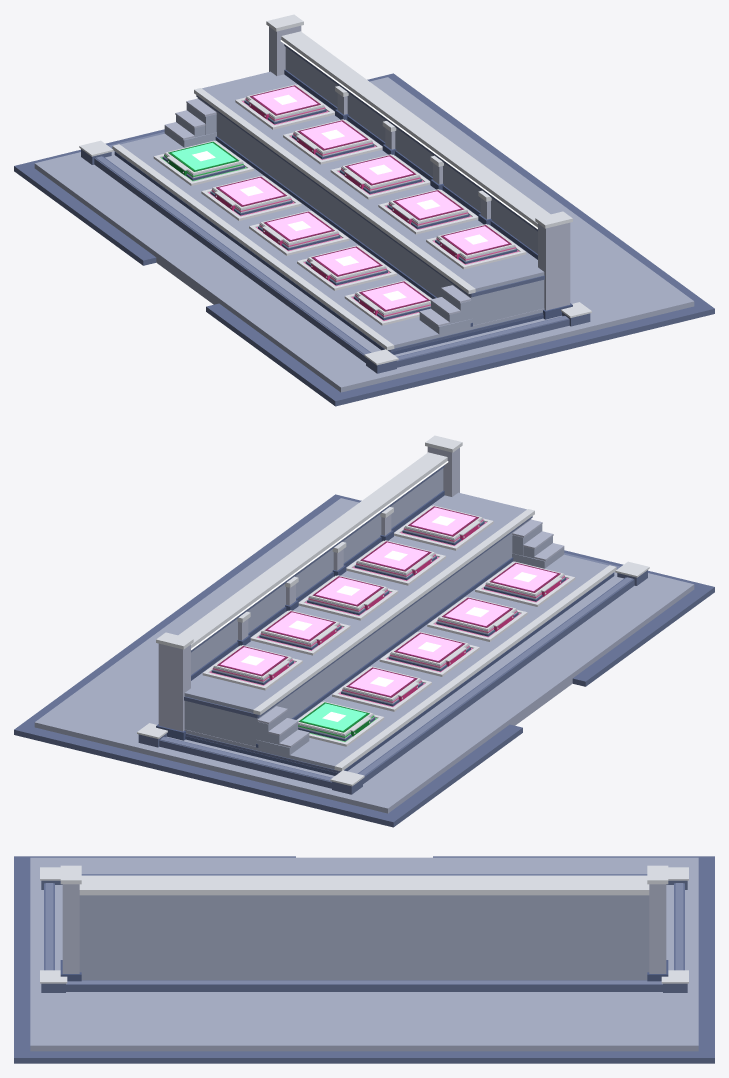
The model's file is GunStand_2Tiers.glb.
The picture shows the model from 3 angles, top to bottom: view 1: azimuth 30°, elevation 25°; view 2: azimuth 150°, elevation 25°; view 3: azimuth 270°, elevation 25°; orthographic projection. The views are drawn at different scales.
Visible parts, largest first — view 1: PlazaDeck_05, ArmoryTier_207, ArmoryTierTop_206, ArmoryTierTop_215, BackCoping_185, ArmoryBack_188, PlazaKerb_03, ArmoryApron_233, TierCoping_212, TierCoping_203, ApronKerb_232, PlazaKerb_02 (+23 smaller); view 2: PlazaDeck_05, ArmoryTier_207, ArmoryTierTop_206, ArmoryTierTop_215, BackCoping_185, ArmoryBack_188, PlazaKerb_04, ArmoryApron_233, TierCoping_212, TierCoping_203, ApronKerb_232, PlazaKerb_02 (+23 smaller); view 3: PlazaDeck_05, ArmoryBack_188, BackCoping_185, PlazaKerb_02, ApronKerb_230, PlazaKerb_03, PlazaKerb_04, ApronKerbTop_229, TierCoping_212, CornerPost_169, CornerPost_172, ArmoryApron_233 (+13 smaller).
Boxes of the visible parts, x1,y1,x2,y2 form: PlazaDeck_05: (34,77,694,392); ArmoryTier_207: (197,98,544,325); ArmoryTierTop_206: (202,71,544,289); ArmoryTierTop_215: (120,133,544,346); BackCoping_185: (281,31,550,227); ArmoryBack_188: (285,47,537,253); PlazaKerb_03: (341,303,714,402); ArmoryApron_233: (105,151,562,356); TierCoping_212: (112,144,394,350); TierCoping_203: (194,88,475,294); ApronKerb_232: (94,156,371,362); PlazaKerb_02: (393,79,706,306); PlazaDeck_05: (34,498,694,813); ArmoryTier_207: (184,519,531,746); ArmoryTierTop_206: (184,492,526,710); ArmoryTierTop_215: (184,554,608,767); BackCoping_185: (178,452,447,648); ArmoryBack_188: (191,468,443,674); PlazaKerb_04: (14,724,387,823); ArmoryApron_233: (166,572,623,777); TierCoping_212: (334,565,616,771); TierCoping_203: (253,509,534,715); ApronKerb_232: (357,577,634,783); PlazaKerb_02: (22,500,335,727); PlazaDeck_05: (30,857,698,1051); ArmoryBack_188: (79,895,649,980); BackCoping_185: (79,879,649,895); PlazaKerb_02: (30,1051,698,1063); ApronKerb_230: (66,980,662,991); PlazaKerb_03: (14,863,30,1063); PlazaKerb_04: (698,863,714,1063); ApronKerbTop_229: (66,980,662,984); TierCoping_212: (81,875,647,879); CornerPost_169: (649,884,666,973); CornerPost_172: (62,884,79,973); ArmoryApron_233: (55,885,673,970).
Size of the model in its own units: 34.9 by 9.6 by 51.2.
